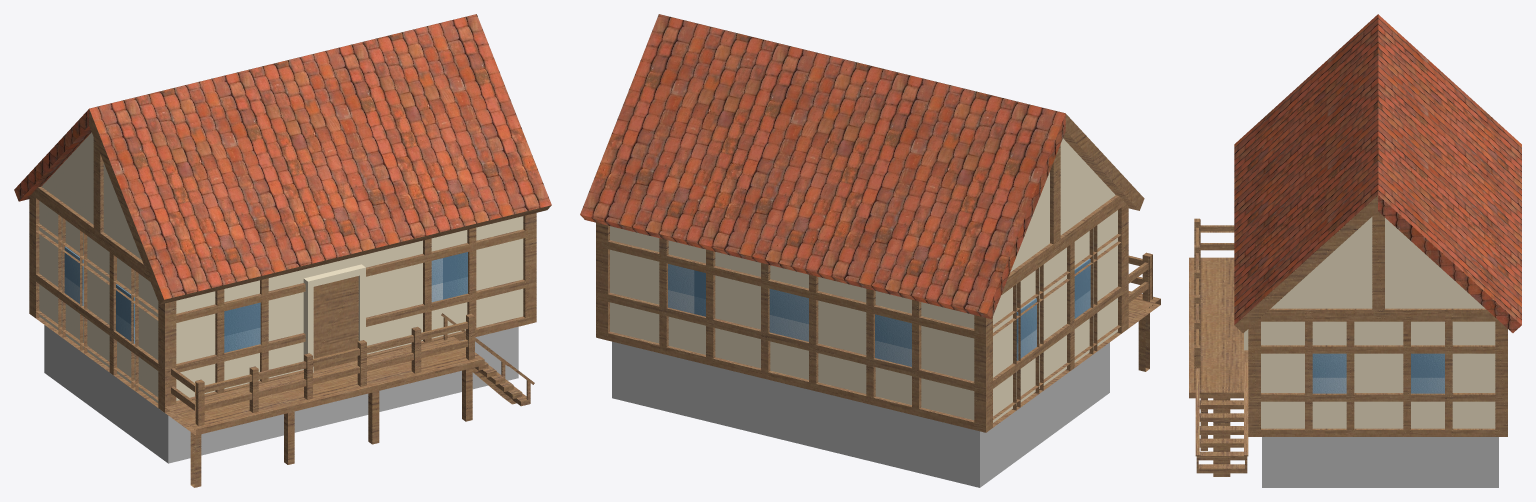
Rendered from MediumHouseWithProch.fbx.
The picture shows the model from 3 angles, left to right: view 1: azimuth 30°, elevation 25°; view 2: azimuth 150°, elevation 25°; view 3: azimuth 270°, elevation 25°; orthographic projection. The views are drawn at different scales.
Visible parts, largest first — view 1: mergedBlocks_wood(Clone)_0.2160, mergedBlocks_wood(Clone)_0.2150, mergedBlocks_custom9(Clone)_0.456, mergedBlocks_custom10(Clone)_0.1341, mergedBlocks_custom9(Clone)_0.454, mergedBlocks_custom9(Clone)_0.462, mergedBlocks_woodLight(Clone)_0.081, mergedBlocks_woodLight(Clone)_0.587, mergedBlocks_custom10(Clone)_0.1339, mergedBlocks_custom10(Clone)_0.1345, mergedBlocks_custom9(Clone)_0.475, mergedBlocks_woodLight(Clone)_0.593 (+28 smaller); view 2: mergedBlocks_bricks(Clone)_0.305, mergedBlocks_bricks(Clone)_0.292, mergedBlocks_custom9(Clone)_0.463, mergedBlocks_custom10(Clone)_0.1346, mergedBlocks_custom9(Clone)_0.454, mergedBlocks_custom9(Clone)_0.462, mergedBlocks_custom10(Clone)_0.1345, mergedBlocks_custom10(Clone)_0.1339, mergedBlocks_wood(Clone)_0.3695, mergedBlocks_wood(Clone)_0.3689, mergedBlocks_wood(Clone)_0.3683, mergedBlocks_custom1(Clone)_0.910 (+26 smaller); view 3: mergedBlocks_wood(Clone)_0.2160, mergedBlocks_bricks(Clone)_0.305, mergedBlocks_custom9(Clone)_0.457, mergedBlocks_wood(Clone)_0.2150, mergedBlocks_bricks(Clone)_0.292, mergedBlocks_custom9(Clone)_0.465, mergedBlocks_custom10(Clone)_0.1342, mergedBlocks_custom10(Clone)_0.1348, mergedBlocks_custom9(Clone)_0.469, mergedBlocks_woodLight(Clone)_0.587, mergedBlocks_wood(Clone)_0.3721, mergedBlocks_bricks(Clone)_0.297 (+21 smaller).
Part boxes in pixels (x1,y1,x2,y2): mergedBlocks_wood(Clone)_0.2160: [89, 42, 436, 299]; mergedBlocks_wood(Clone)_0.2150: [352, 14, 551, 238]; mergedBlocks_custom9(Clone)_0.456: [176, 216, 523, 400]; mergedBlocks_custom10(Clone)_0.1341: [168, 326, 518, 463]; mergedBlocks_custom9(Clone)_0.454: [100, 163, 158, 403]; mergedBlocks_custom9(Clone)_0.462: [39, 201, 100, 360]; mergedBlocks_woodLight(Clone)_0.081: [313, 276, 358, 370]; mergedBlocks_woodLight(Clone)_0.587: [279, 336, 483, 401]; mergedBlocks_custom10(Clone)_0.1339: [106, 370, 168, 463]; mergedBlocks_custom10(Clone)_0.1345: [44, 325, 106, 417]; mergedBlocks_custom9(Clone)_0.475: [41, 132, 93, 224]; mergedBlocks_woodLight(Clone)_0.593: [165, 379, 309, 429]; mergedBlocks_bricks(Clone)_0.305: [700, 49, 1065, 313]; mergedBlocks_bricks(Clone)_0.292: [580, 14, 802, 249]; mergedBlocks_custom9(Clone)_0.463: [610, 226, 974, 420]; mergedBlocks_custom10(Clone)_0.1346: [612, 341, 979, 487]; mergedBlocks_custom9(Clone)_0.454: [1053, 138, 1117, 378]; mergedBlocks_custom9(Clone)_0.462: [993, 257, 1053, 422]; mergedBlocks_custom10(Clone)_0.1345: [980, 390, 1044, 487]; mergedBlocks_custom10(Clone)_0.1339: [1045, 342, 1109, 439]; mergedBlocks_wood(Clone)_0.3695: [597, 239, 985, 340]; mergedBlocks_wood(Clone)_0.3689: [597, 330, 985, 432]; mergedBlocks_wood(Clone)_0.3683: [597, 291, 985, 393]; mergedBlocks_custom1(Clone)_0.910: [769, 289, 808, 341]; mergedBlocks_wood(Clone)_0.2160: [1234, 14, 1378, 271]; mergedBlocks_bricks(Clone)_0.305: [1378, 14, 1521, 271]; mergedBlocks_custom9(Clone)_0.457: [1261, 217, 1378, 428]; mergedBlocks_wood(Clone)_0.2150: [1234, 132, 1378, 324]; mergedBlocks_bricks(Clone)_0.292: [1378, 132, 1521, 324]; mergedBlocks_custom9(Clone)_0.465: [1378, 321, 1495, 428]; mergedBlocks_custom10(Clone)_0.1342: [1262, 437, 1380, 487]; mergedBlocks_custom10(Clone)_0.1348: [1380, 437, 1498, 487]; mergedBlocks_custom9(Clone)_0.469: [1385, 218, 1484, 308]; mergedBlocks_woodLight(Clone)_0.587: [1189, 311, 1248, 392]; mergedBlocks_wood(Clone)_0.3721: [1257, 310, 1496, 321]; mergedBlocks_bricks(Clone)_0.297: [1378, 195, 1521, 332].
Bounding box in the file's own units: 3400 × 2641 × 2640.
